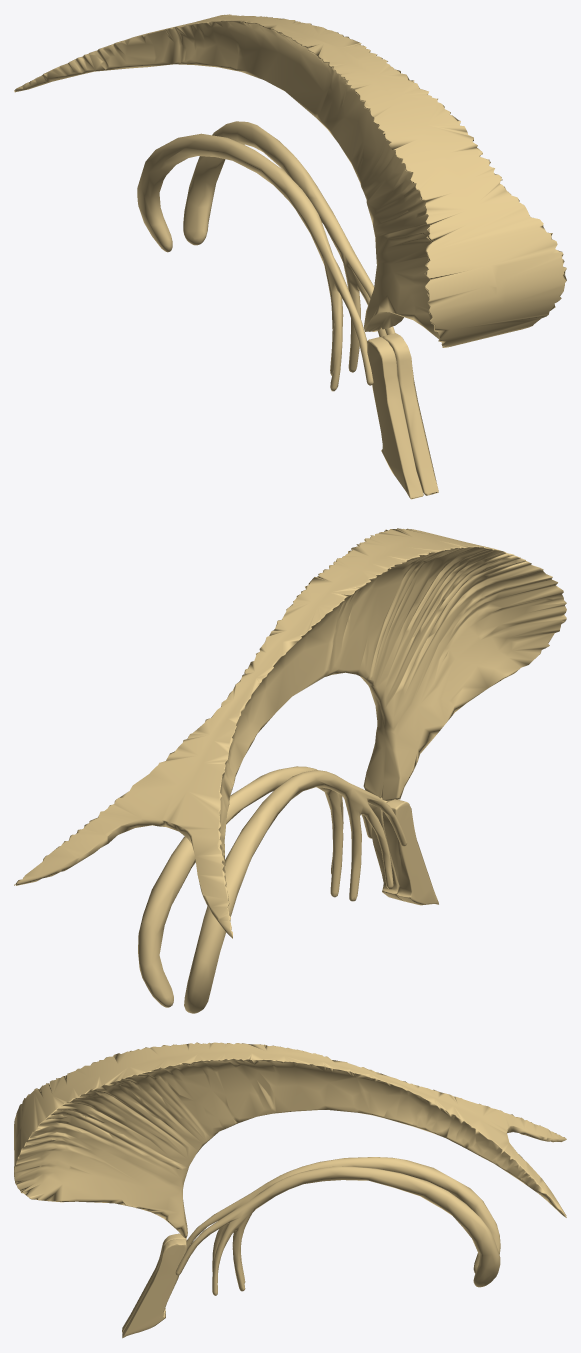
Rendered from limbic-landmarks.glb.
The picture shows the model from 3 angles, top to bottom: view 1: azimuth 30°, elevation 25°; view 2: azimuth 150°, elevation 25°; view 3: azimuth 270°, elevation 25°; orthographic projection. The views are drawn at different scales.
Parts seen in each view (by area): view 1: FMA61842, FMA73413, FMA73414, FMA61975; view 2: FMA61842, FMA73413, FMA73414, FMA61975; view 3: FMA61842, FMA73414, FMA73413, FMA61975.
Part boxes in pixels (x1,y1,x2,y2): FMA61842: [14, 14, 566, 347]; FMA73413: [137, 133, 373, 391]; FMA73414: [183, 121, 395, 372]; FMA61975: [367, 333, 438, 499]; FMA61842: [14, 528, 566, 938]; FMA73413: [184, 770, 406, 1013]; FMA73414: [138, 766, 372, 1007]; FMA61975: [368, 797, 438, 905]; FMA61842: [14, 1042, 566, 1238]; FMA73414: [175, 1166, 500, 1295]; FMA73413: [186, 1157, 500, 1283]; FMA61975: [122, 1233, 186, 1338].
Bounding box in the file's own units: 0.2103 × 0.3529 × 0.6257.
